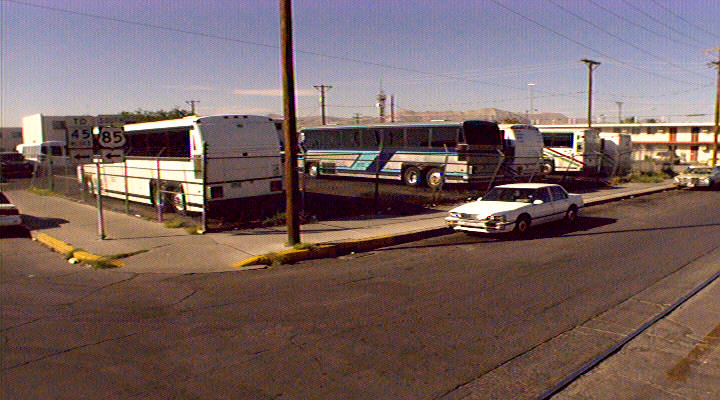Ramp: (90, 232, 276, 284)
